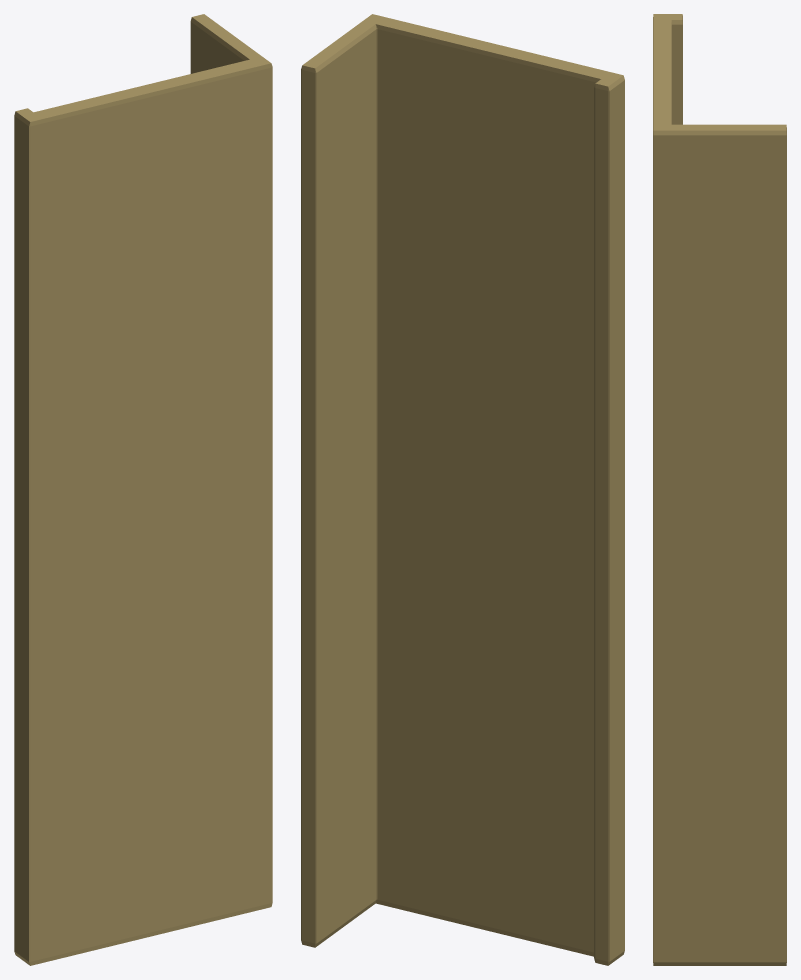
The model's file is Shelf.fbx.
3 renders of one model, left to right at view 1: azimuth 30°, elevation 25°; view 2: azimuth 150°, elevation 25°; view 3: azimuth 270°, elevation 25°, orthographic. The views are drawn at different scales.
Visible parts, largest first — view 1: Shelf; view 2: Shelf; view 3: Shelf.
Boxes of the visible parts, left/top/right/bottom form: Shelf: left=14, top=14, right=272, bottom=965; Shelf: left=301, top=14, right=624, bottom=965; Shelf: left=653, top=14, right=786, bottom=965.
Size of the model in its own units: 0.1181 by 0.8134 by 0.2457.
